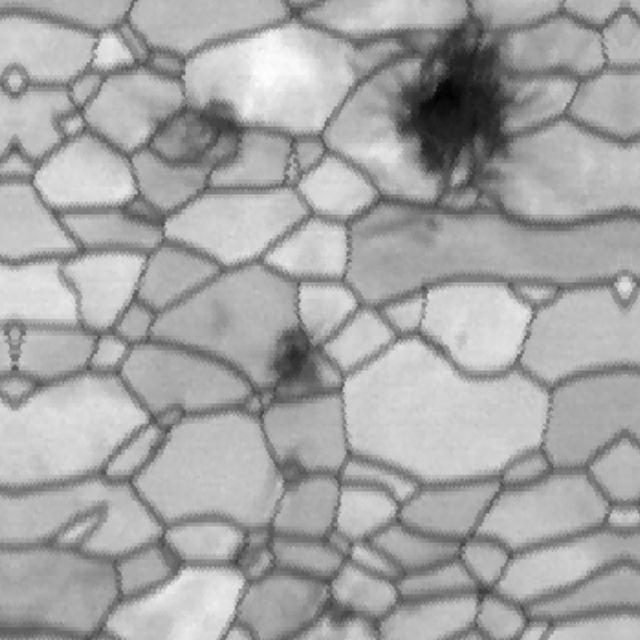good_void: (374, 3, 563, 233), (155, 82, 274, 176), (258, 321, 339, 385), (258, 438, 319, 501), (451, 323, 483, 354)
